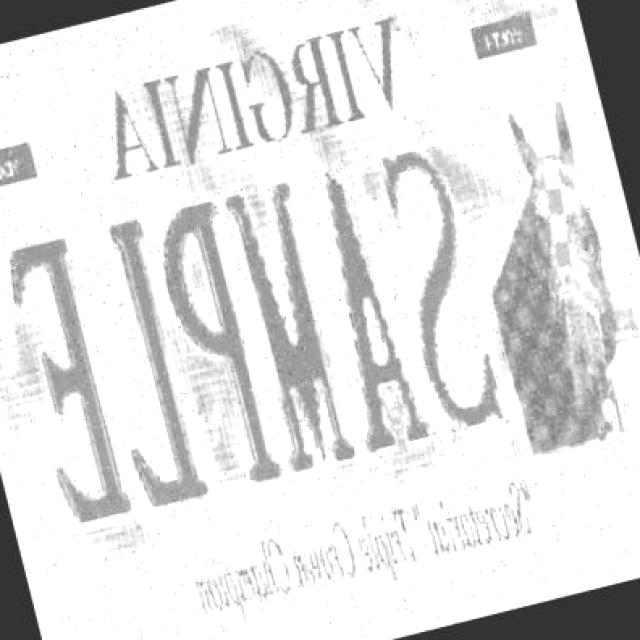licenseplate: (0, 94, 519, 559)
